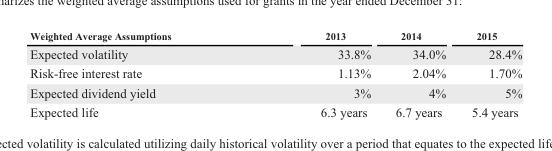table: (29, 28, 521, 120)
table column: (29, 28, 245, 120), (245, 28, 382, 120), (382, 28, 458, 120), (458, 28, 521, 120)
table column header: (29, 28, 521, 43)
table row: (29, 43, 521, 63), (29, 63, 521, 82), (29, 82, 521, 101), (29, 101, 521, 120), (29, 28, 521, 43)
